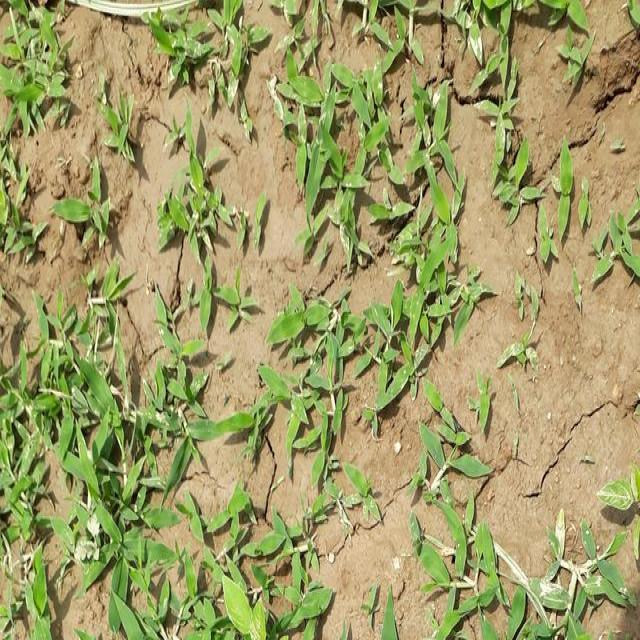weed: (0, 373, 201, 634), (218, 156, 404, 428), (357, 500, 640, 639), (242, 0, 492, 146), (508, 0, 638, 276), (0, 0, 123, 256)
